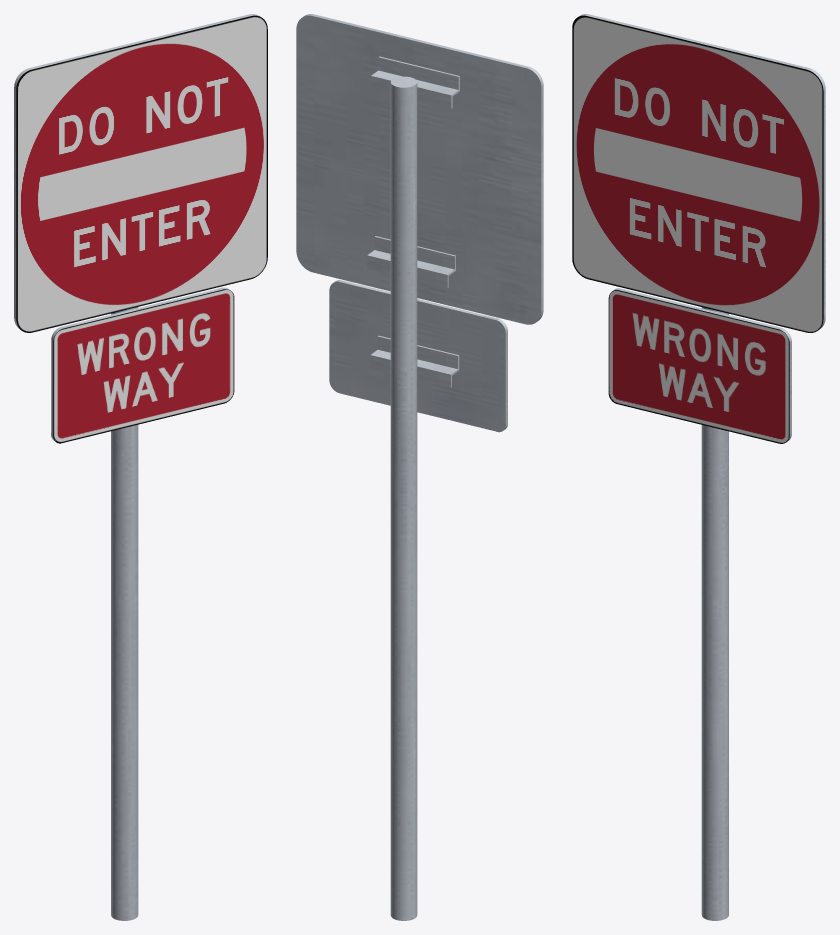
The model's file is DNE.fbx.
The picture shows the model from 3 angles, left to right: view 1: azimuth 30°, elevation 25°; view 2: azimuth 150°, elevation 25°; view 3: azimuth 330°, elevation 25°; orthographic projection. The views are drawn at different scales.
Visible parts, largest first — view 1: 3DGeom~9, 3DGeom~7, 3DGeom~3, 3DGeom~8, 3DGeom~5; view 2: 3DGeom~8, 3DGeom~3, 3DGeom~5, 3DGeom~1_3, 3DGeom~1, 3DGeom~1_2; view 3: 3DGeom~9, 3DGeom~7, 3DGeom~3, 3DGeom~8, 3DGeom~5.
Boxes of the visible parts, box(x1,y1,x2,y2) form: 3DGeom~9: box(16, 15, 267, 332); 3DGeom~7: box(53, 289, 234, 443); 3DGeom~3: box(111, 307, 138, 920); 3DGeom~8: box(14, 14, 260, 329); 3DGeom~5: box(51, 287, 229, 441); 3DGeom~8: box(296, 14, 543, 324); 3DGeom~3: box(390, 76, 417, 920); 3DGeom~5: box(329, 280, 507, 432); 3DGeom~1_3: box(371, 56, 459, 108); 3DGeom~1: box(370, 335, 459, 387); 3DGeom~1_2: box(367, 236, 455, 287); 3DGeom~9: box(572, 15, 823, 332); 3DGeom~7: box(608, 290, 789, 443); 3DGeom~3: box(701, 307, 728, 920); 3DGeom~8: box(578, 14, 825, 329); 3DGeom~5: box(613, 288, 791, 441).
Size of the model in its own units: 0.64 by 0.1081 by 2.15.
Materials: 4 (3 with a texture image).
